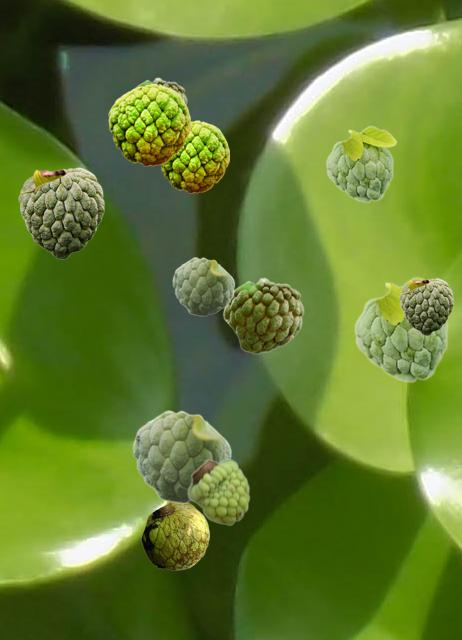atis: (353, 276, 449, 382), (132, 410, 231, 502), (18, 167, 103, 258), (108, 83, 189, 165), (222, 277, 303, 353), (325, 125, 396, 202), (160, 120, 228, 192), (141, 502, 208, 569), (187, 458, 249, 525), (172, 257, 234, 315), (399, 278, 452, 334), (134, 77, 186, 103)
